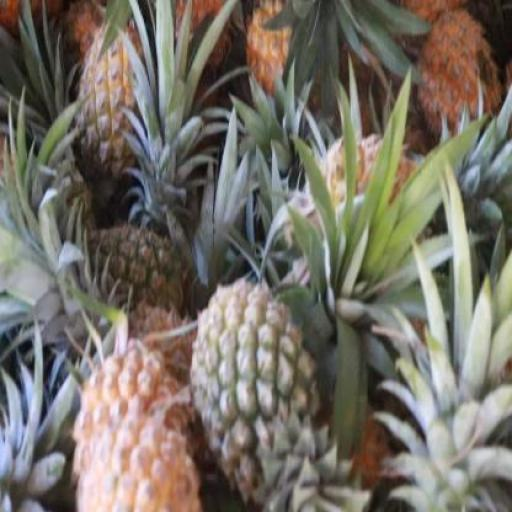------------------------------: (188, 278, 326, 483), (75, 23, 147, 181)
Pineapple - v8 v1: (414, 13, 504, 143)
